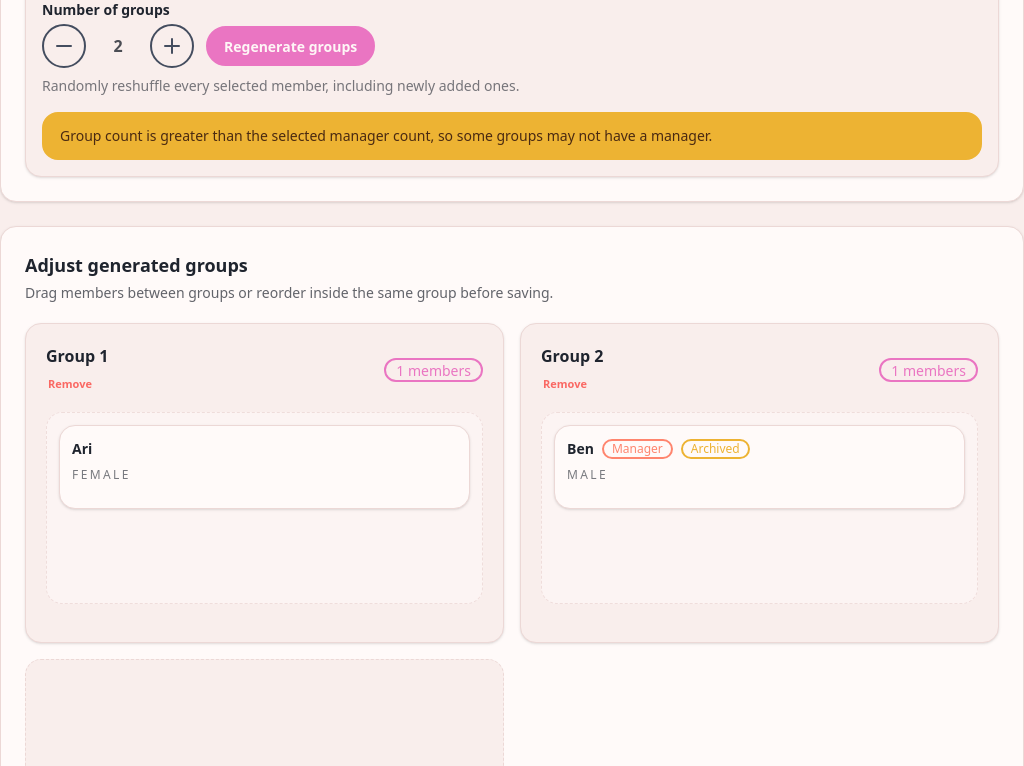
Test: activity builder page › moves removed-group members into the unassigned tray
This screenshot has width=1024, height=766.
(page scrolled)
Click the button with aria-label "Remove group 2" at (565, 384), box x1=541 y1=372 x2=589 y2=396
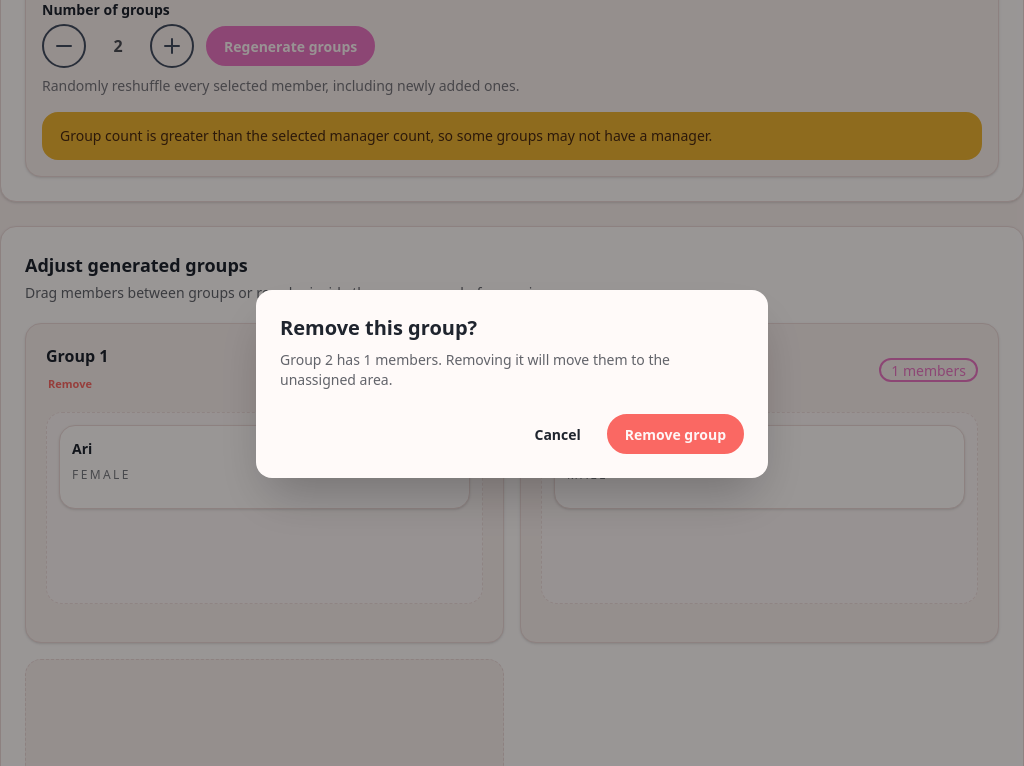
Check: the heading "Remove this group?" is shown, box x1=280 y1=314 x2=477 y2=341
Click the button "Remove group" at (675, 434), box x1=607 y1=414 x2=744 y2=454
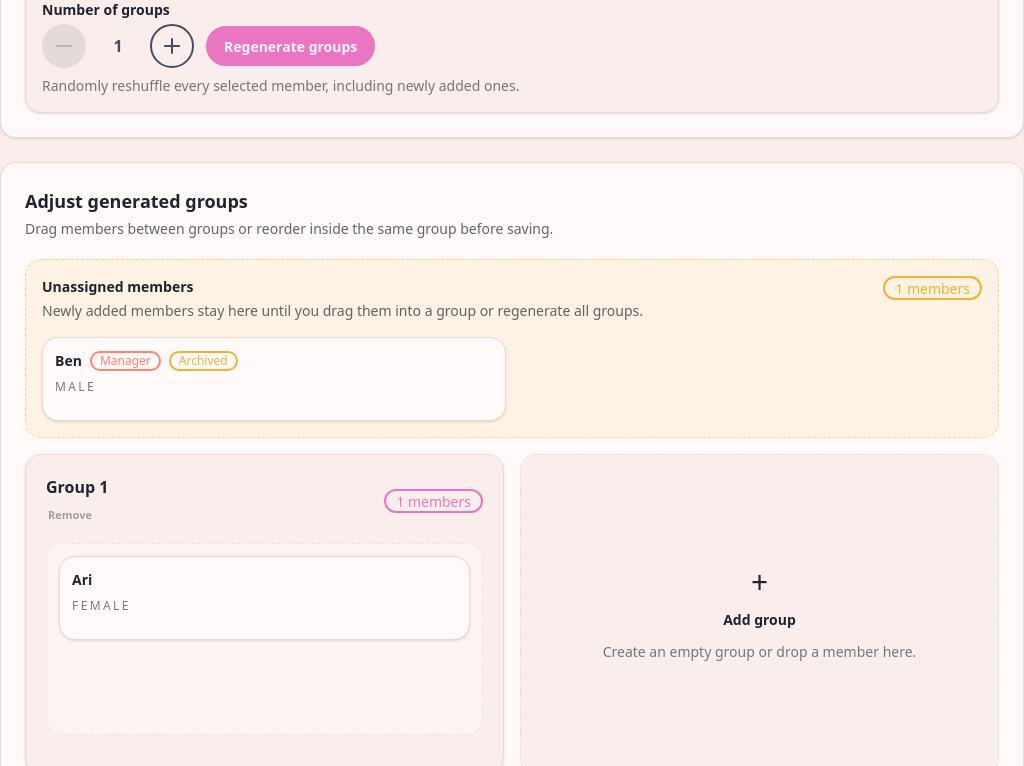
Check: the text "Ben" is shown, box x1=55 y1=350 x2=82 y2=371
Check: the heading "Unassigned members" is shown, box x1=42 y1=277 x2=194 y2=296
